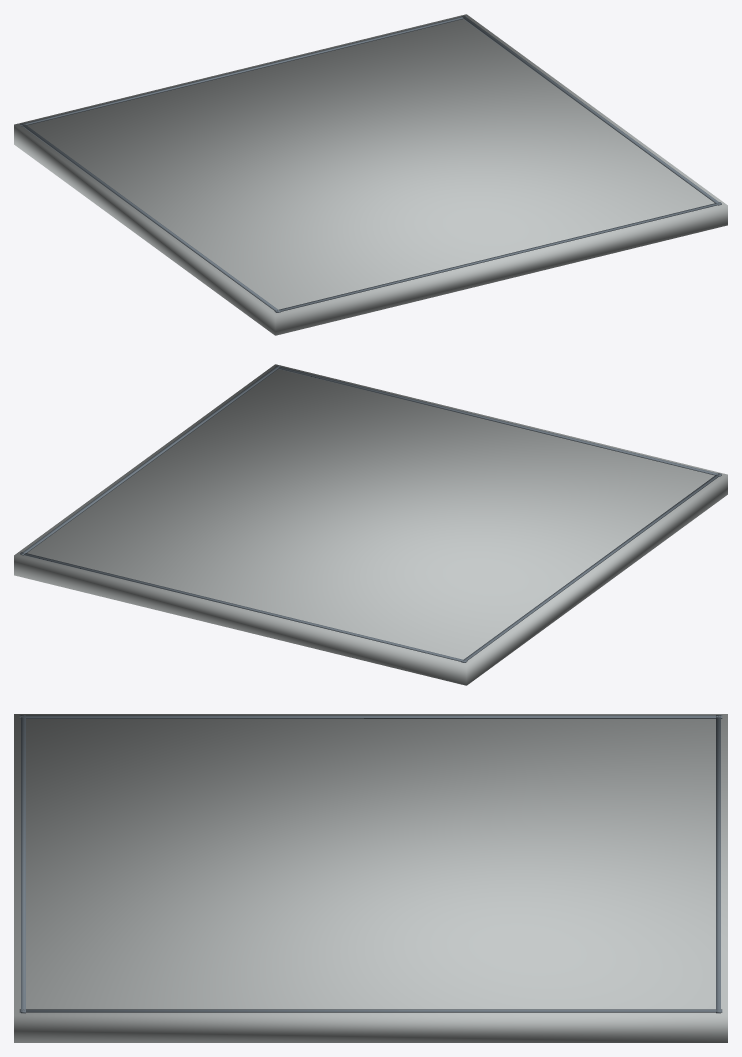
The model's file is concrete_tile_enhanced.glb.
3 views of the same model, one above another, from view 1: azimuth 30°, elevation 25°; view 2: azimuth 150°, elevation 25°; view 3: azimuth 270°, elevation 25° (orthographic). The views are drawn at different scales.
Visible parts, largest first — view 1: Base_concrete, ExpansionJoint_dark; view 2: Base_concrete, ExpansionJoint_dark; view 3: Base_concrete, ExpansionJoint_dark.
Boxes of the visible parts, box(x1,y1,x2,y2) form: Base_concrete: box(14, 14, 727, 335); ExpansionJoint_dark: box(20, 15, 721, 312); Base_concrete: box(14, 364, 727, 685); ExpansionJoint_dark: box(20, 365, 721, 662); Base_concrete: box(14, 714, 727, 1042); ExpansionJoint_dark: box(19, 715, 722, 1013).
Bounding box in the file's own units: 3.8 × 0.169 × 3.8.
